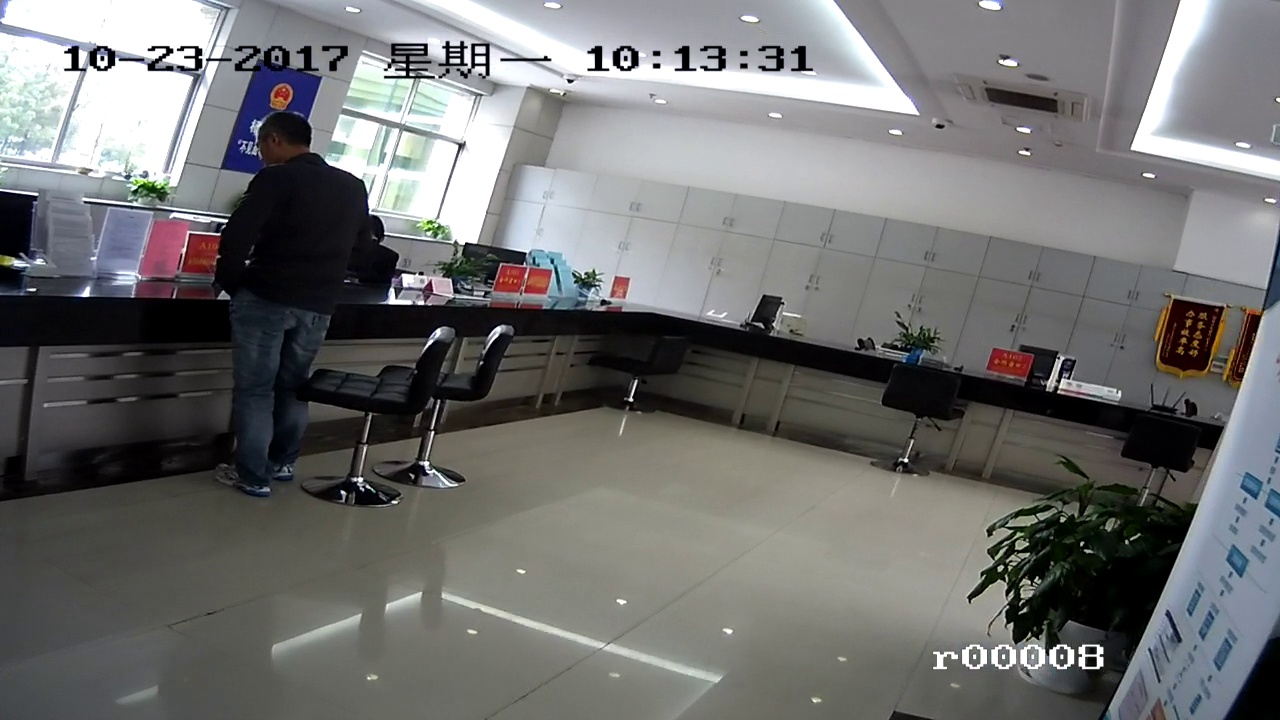chair: (312, 336, 454, 507), (436, 309, 523, 505), (876, 360, 962, 487), (591, 328, 682, 426)
person: (242, 122, 363, 499)
pot: (1033, 469, 1152, 627)
